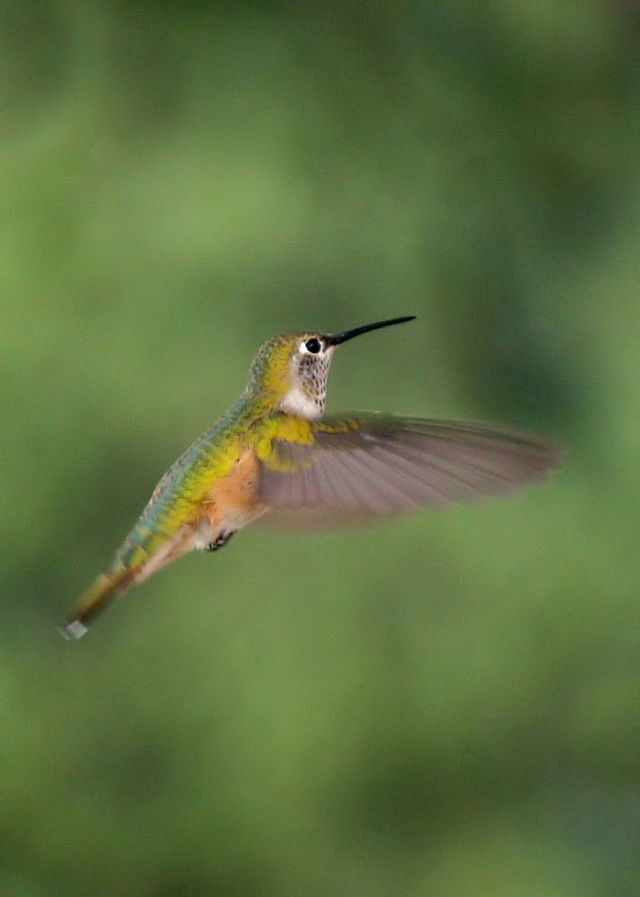selasphorus platycercus: (47, 310, 569, 650)
